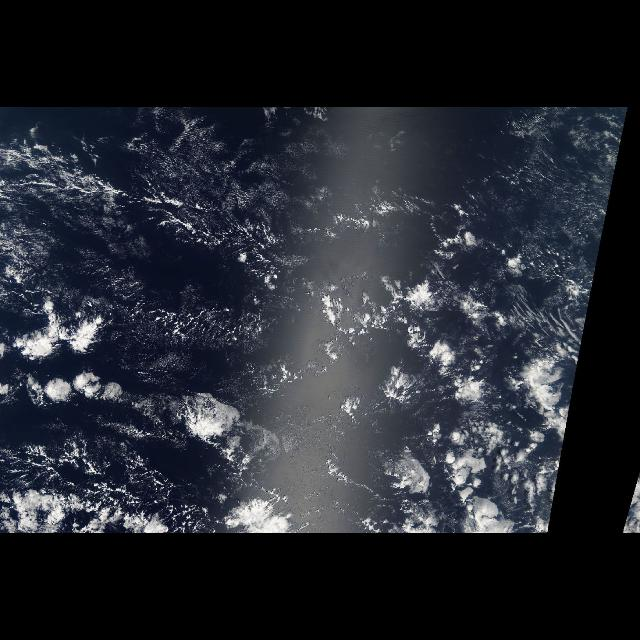Flower: (3, 252, 583, 534)
Sugar: (17, 110, 628, 306)
